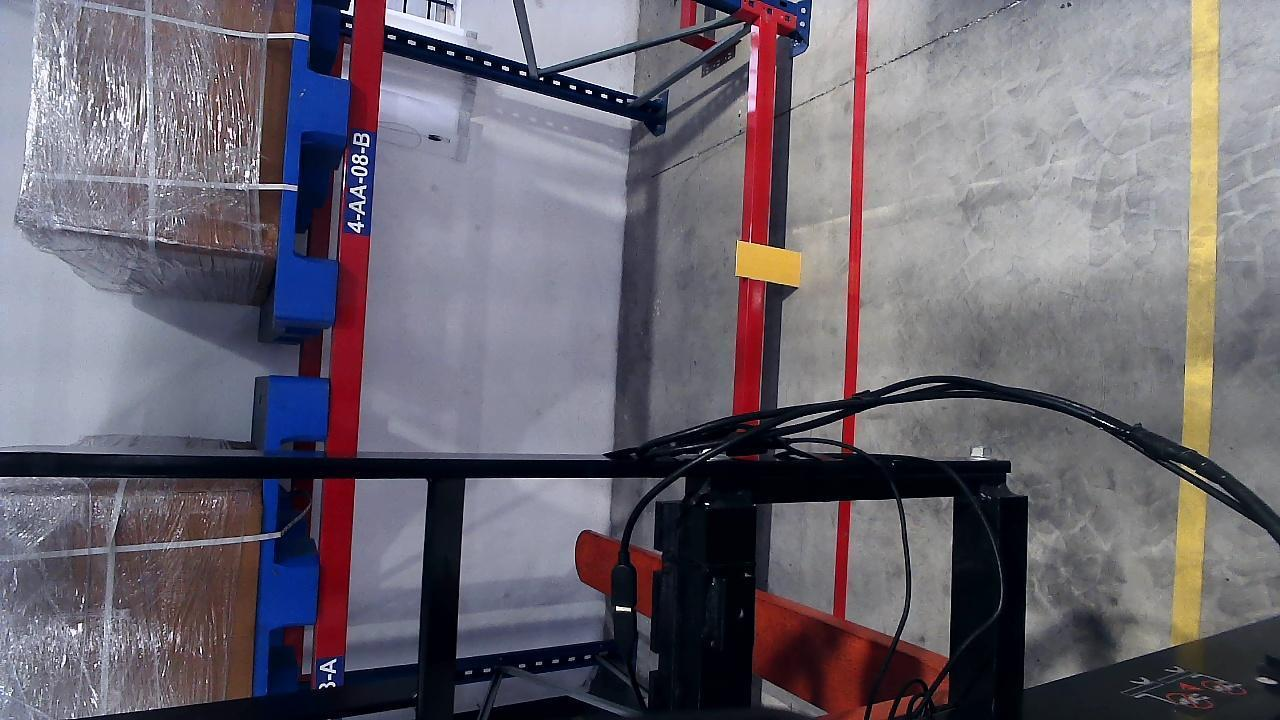red_line: (843, 3, 868, 396)
yellow_line: (1180, 5, 1221, 632)
